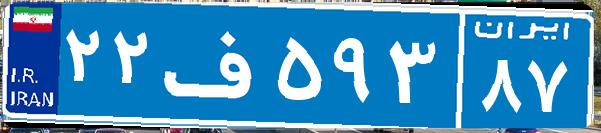2: (57, 26, 110, 107), (110, 28, 158, 105)
3: (385, 28, 445, 110)
5: (273, 28, 330, 110)
7: (525, 38, 570, 115)
8: (475, 38, 525, 113)
9: (330, 28, 385, 110)
ف: (158, 15, 273, 115)
